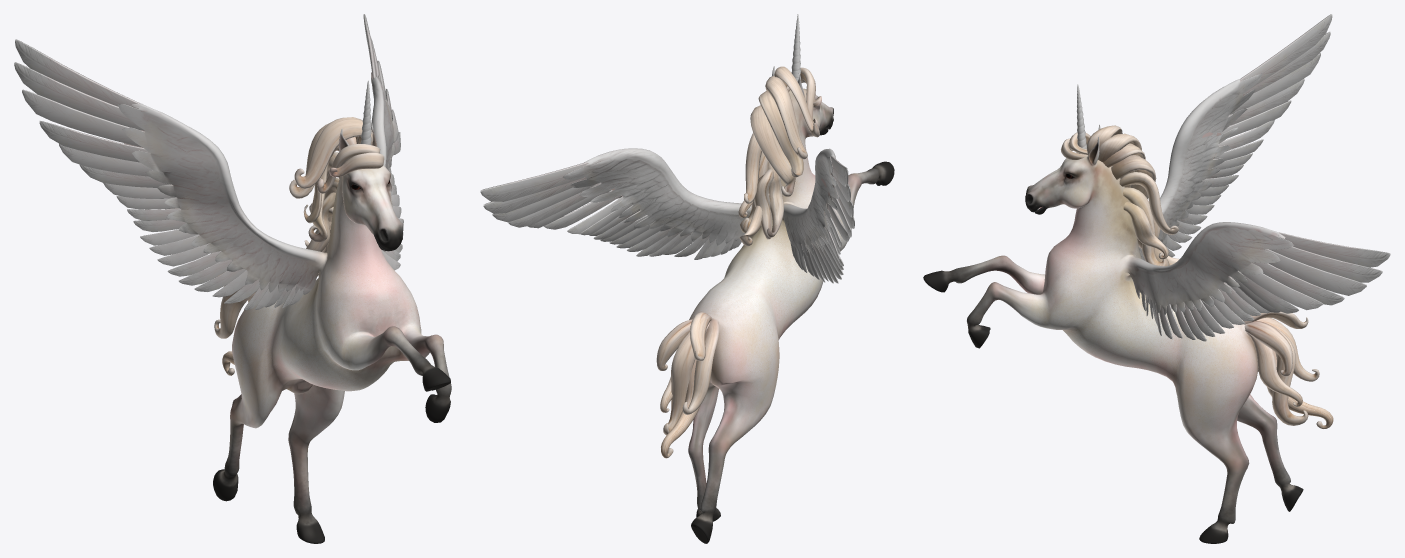
3 views of the same model, side by side, from view 1: azimuth 30°, elevation 25°; view 2: azimuth 150°, elevation 25°; view 3: azimuth 270°, elevation 25° (orthographic). The views are drawn at different scales.
Parts seen in each view (by area): view 1: unicorn.1_1; view 2: unicorn.1_1; view 3: unicorn.1_1.
Part boxes in pixels (x1=…): unicorn.1_1: x1=14, y1=14, x2=451, y2=543; unicorn.1_1: x1=480, y1=14, x2=894, y2=543; unicorn.1_1: x1=923, y1=14, x2=1390, y2=543.
Size of the model in its own units: 3.88 by 4.99 by 4.73.
Materials: 1 (1 with a texture image).
